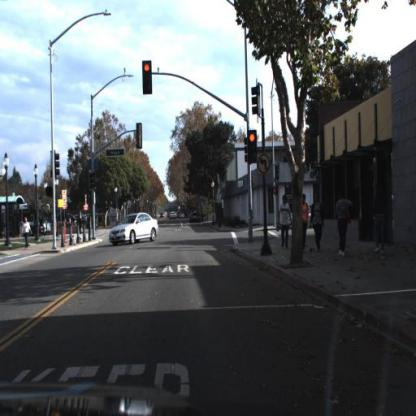car: (107, 211, 164, 244)
pedestrian: (366, 176, 392, 265), (338, 188, 356, 258), (335, 189, 350, 263), (311, 194, 327, 256), (277, 194, 291, 250), (302, 192, 310, 254), (22, 216, 33, 249), (22, 213, 31, 248)
trafficLight-Red: (140, 59, 155, 95), (246, 128, 258, 165), (249, 131, 257, 162)
truck: (1, 204, 52, 234)
